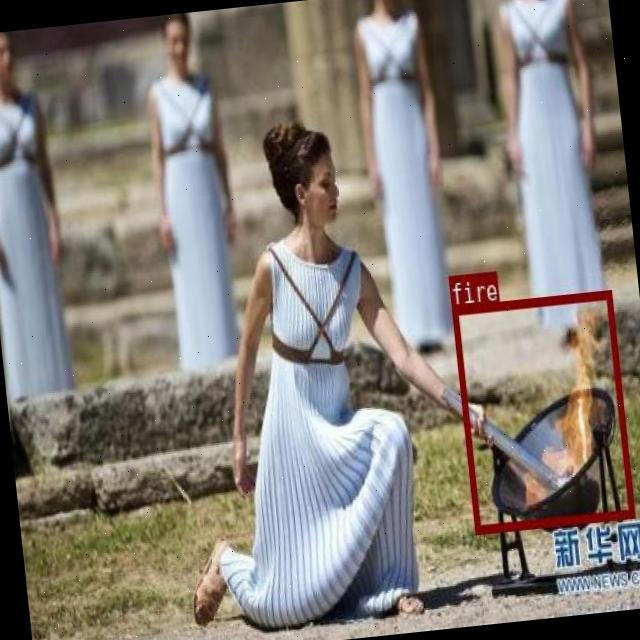fire: (451, 288, 634, 532)
